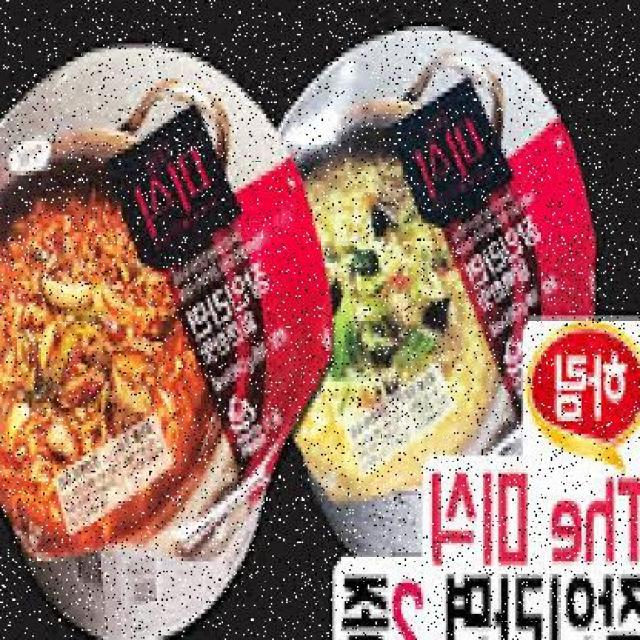Miscellaneous: (0, 35, 298, 639), (264, 21, 600, 544)
